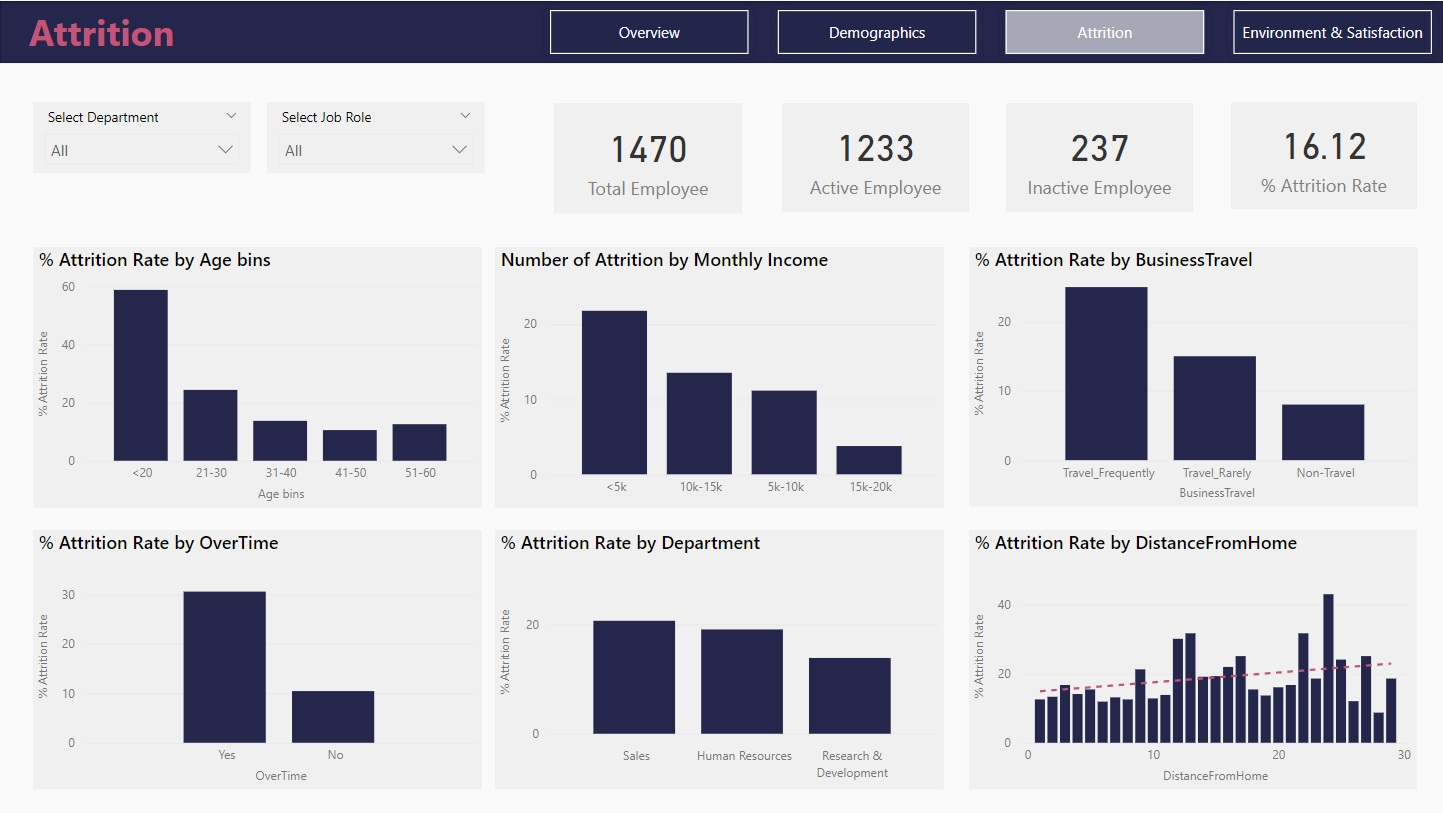

This screenshot's page, from the dashboard's own definition file:
{"tool":"powerbi","page":{"name":"Attrition","canvas":[1280,720],"ordinal":2},"visuals":[{"type":"lineClusteredColumnComboChart","fields":{"Category":["Attrition_Performance.Age bins"],"Y":["_Measures.% Attrition Rate"]},"box":[29.3,218.1,398,230.5],"z":0},{"type":"clusteredColumnChart","fields":{"Category":["Attrition_Performance.Department"],"Y":["_Measures.% Attrition Rate"]},"box":[438.9,469.1,398.1,229.7],"z":1000},{"type":"clusteredColumnChart","fields":{"Category":["Attrition_Performance.OverTime"],"Y":["_Measures.% Attrition Rate"]},"box":[29.3,469.1,398.1,229.7],"z":2000},{"type":"clusteredColumnChart","fields":{"Category":["Attrition_Performance.BusinessTravel"],"Y":["_Measures.% Attrition Rate"]},"box":[859.2,218.1,398,230],"z":3000},{"type":"shape","box":[0,0,1280,55],"z":4000},{"type":"textbox","box":[20.5,0,184.2,58.2],"z":5000},{"type":"pageNavigator","box":[479.5,0,800.5,55],"z":6000},{"type":"slicer","title":"Select Job Role","fields":{"Values":["Attrition_Performance.JobRole"]},"box":[236.7,89.6,193.3,63],"z":7000},{"type":"slicer","title":"Select Job Role","fields":{"Values":["Attrition_Performance.Department"]},"box":[29.3,89.6,193.3,63],"z":8000},{"type":"clusteredColumnChart","title":"Number of Attrition by Monthly Income","fields":{"Category":["Attrition_Performance.MonthlyIncome Bins"],"Y":["_Measures.% Attrition Rate"]},"box":[438.9,218.1,398.1,230.5],"z":9000},{"type":"clusteredColumnChart","fields":{"Y":["_Measures.% Attrition Rate"],"Category":["Attrition_Performance.DistanceFromHome"]},"box":[859.2,469.1,397.2,229.7],"z":10000},{"type":"card","fields":{"Values":["_Measures.Total Employee"]},"box":[491.2,90.4,166.7,97.5],"z":11000},{"type":"card","fields":{"Values":["_Measures.Inactive Employee"]},"box":[892,90.4,165.8,96.7],"z":12000},{"type":"card","fields":{"Values":["_Measures.Active Employee"]},"box":[693.4,90.4,165.8,96.7],"z":13000},{"type":"card","fields":{"Values":["_Measures.% Attrition Rate"]},"box":[1091.5,89.6,164.9,94.9],"z":13001}]}

Visuals, with their boxes in screenshot pixels (x1, y1, x2, y2), scaled from the page's 1280x720 canvas onto the 1443x813 screenshot:
lineClusteredColumnComboChart - Attrition_Performance.Age bins x _Measures.% Attrition Rate: (left=33, top=246, right=482, bottom=507)
clusteredColumnChart - Attrition_Performance.Department x _Measures.% Attrition Rate: (left=495, top=530, right=944, bottom=789)
clusteredColumnChart - Attrition_Performance.OverTime x _Measures.% Attrition Rate: (left=33, top=530, right=482, bottom=789)
clusteredColumnChart - Attrition_Performance.BusinessTravel x _Measures.% Attrition Rate: (left=969, top=246, right=1417, bottom=506)
shape: (left=0, top=0, right=1442, bottom=62)
textbox: (left=23, top=0, right=231, bottom=66)
pageNavigator: (left=541, top=0, right=1442, bottom=62)
"Select Job Role" slicer: (left=267, top=101, right=485, bottom=172)
"Select Job Role" slicer: (left=33, top=101, right=251, bottom=172)
"Number of Attrition by Monthly Income" clusteredColumnChart: (left=495, top=246, right=944, bottom=507)
clusteredColumnChart - _Measures.% Attrition Rate x Attrition_Performance.DistanceFromHome: (left=969, top=530, right=1416, bottom=789)
card - _Measures.Total Employee: (left=554, top=102, right=742, bottom=212)
card - _Measures.Inactive Employee: (left=1006, top=102, right=1193, bottom=211)
card - _Measures.Active Employee: (left=782, top=102, right=969, bottom=211)
card - _Measures.% Attrition Rate: (left=1230, top=101, right=1416, bottom=208)
